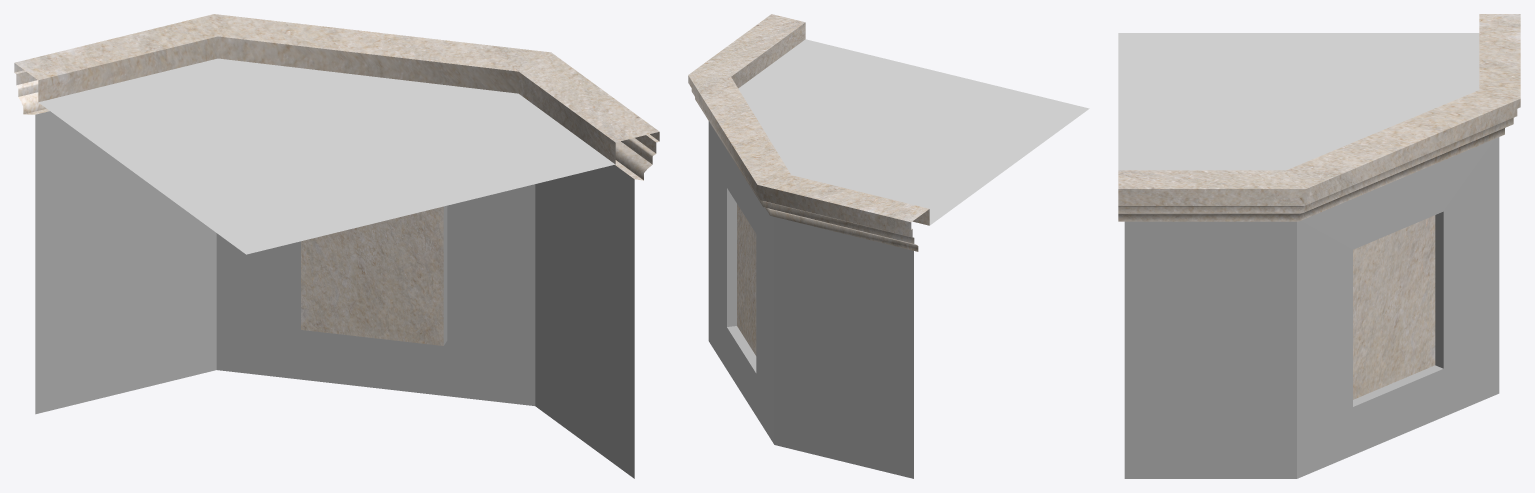
File: DecorazioneTerrazzoAngolo.fbx
3 views of the same model, side by side, from view 1: azimuth 30°, elevation 25°; view 2: azimuth 150°, elevation 25°; view 3: azimuth 270°, elevation 25° (orthographic). The views are drawn at different scales.
Parts seen in each view (by area): view 1: DecorazioneTerrazzoAngolo; view 2: DecorazioneTerrazzoAngolo; view 3: DecorazioneTerrazzoAngolo.
Part boxes in pixels (x1,y1,x2,y2): DecorazioneTerrazzoAngolo: (14, 14, 659, 478); DecorazioneTerrazzoAngolo: (688, 14, 1089, 478); DecorazioneTerrazzoAngolo: (1118, 14, 1520, 478).
Size of the model in its own units: 100 by 79.84 by 97.42.
